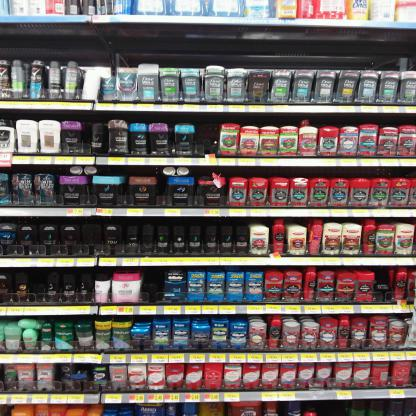Void: (3, 29, 392, 67), (199, 119, 216, 149), (377, 271, 390, 302), (148, 272, 162, 300), (88, 223, 100, 252), (34, 271, 44, 299)
